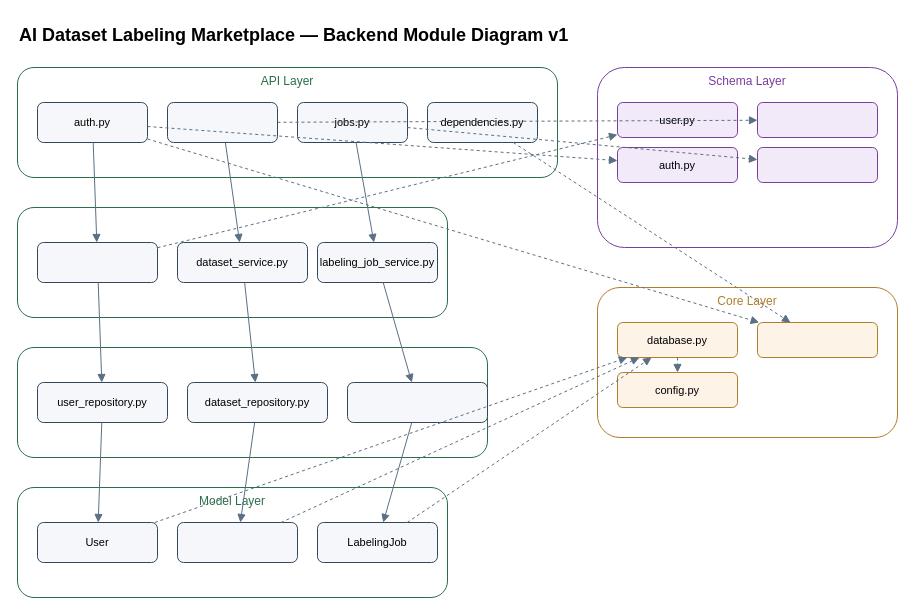
Some shapes in this 915 by 615 pixel diagram are drawn without their labels. Each missing label, with the box of its shape:
Dataset: (176, 522, 298, 562)
dataset.py: (756, 102, 878, 138)
datasets.py: (166, 102, 278, 142)
labeling_job.py: (756, 146, 878, 182)
labeling_job_repository.py: (346, 382, 488, 422)
Repository Layer: (16, 346, 488, 458)
security.py: (756, 322, 878, 358)
Service Layer: (16, 206, 448, 318)
user_service.py: (36, 242, 158, 282)
